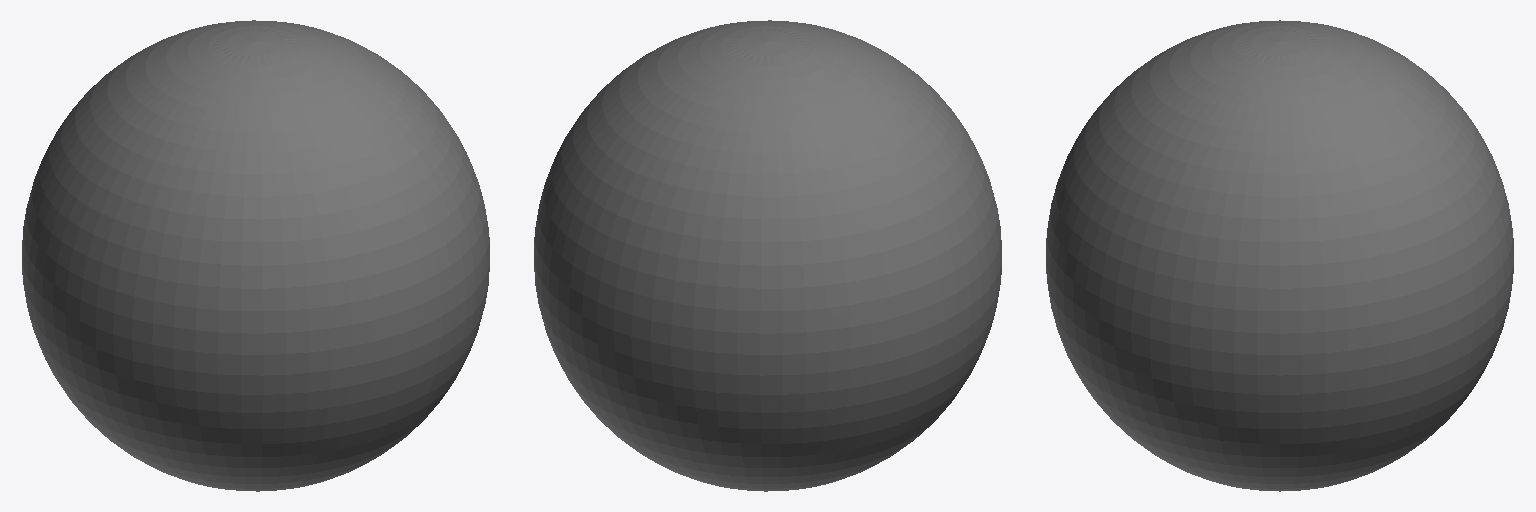
robot.urdf — 8_ball:
<?xml version="1.0"?>
<robot name="8_ball">
  <link name="base">
    <visual>
      <geometry>
        <mesh filename="8_ball.obj" scale="1 1 1"/>
      </geometry>
      <material name="gray">
        <color rgba="0.5 0.5 0.5 1.0"/>
      </material>
    </visual>
    <collision>
      <geometry>
        <mesh filename="8_ball.obj" scale="1 1 1"/>
      </geometry>
    </collision>
    <inertial>
      <mass value="1.000"/>
      <inertia
          ixx="0.001040" ixy="0.000000" ixz="0.000000"
          iyy="0.001040" iyz="0.000000"
          izz="0.001029"/>
      <origin xyz="-0.016134 -0.001430 0.833091" rpy="0 0 0"/>
    </inertial>
  </link>
</robot>

--- What the picture shows (computed from the rendered views, not written in the file) ---
3 views of the same robot in one strip: view 1: azimuth 30°, elevation 25°; view 2: azimuth 150°, elevation 25°; view 3: azimuth 270°, elevation 25° (orthographic).
Robot: 8_ball — 1 links, 0 joints (none); root link base; default pose: all joints at 0.
Visible links, largest first — view 1: base; view 2: base; view 3: base.
Boxes of the visible links, x1=… form: base: x1=22, y1=20, x2=489, y2=491; base: x1=534, y1=20, x2=1001, y2=491; base: x1=1046, y1=20, x2=1513, y2=491.
Size in the robot's own frame: 0.0786 by 0.0786 by 0.0794 metres.
Meshes: 1 distinct files referenced, 1 mesh visuals loaded (1 OBJ).
